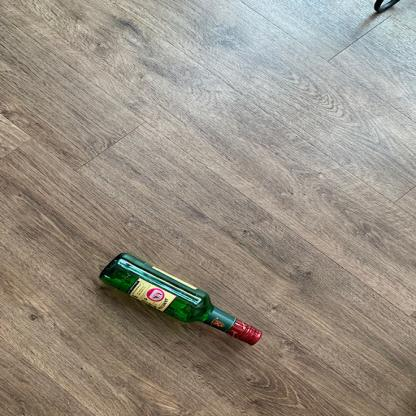trash: (95, 250, 263, 348)
